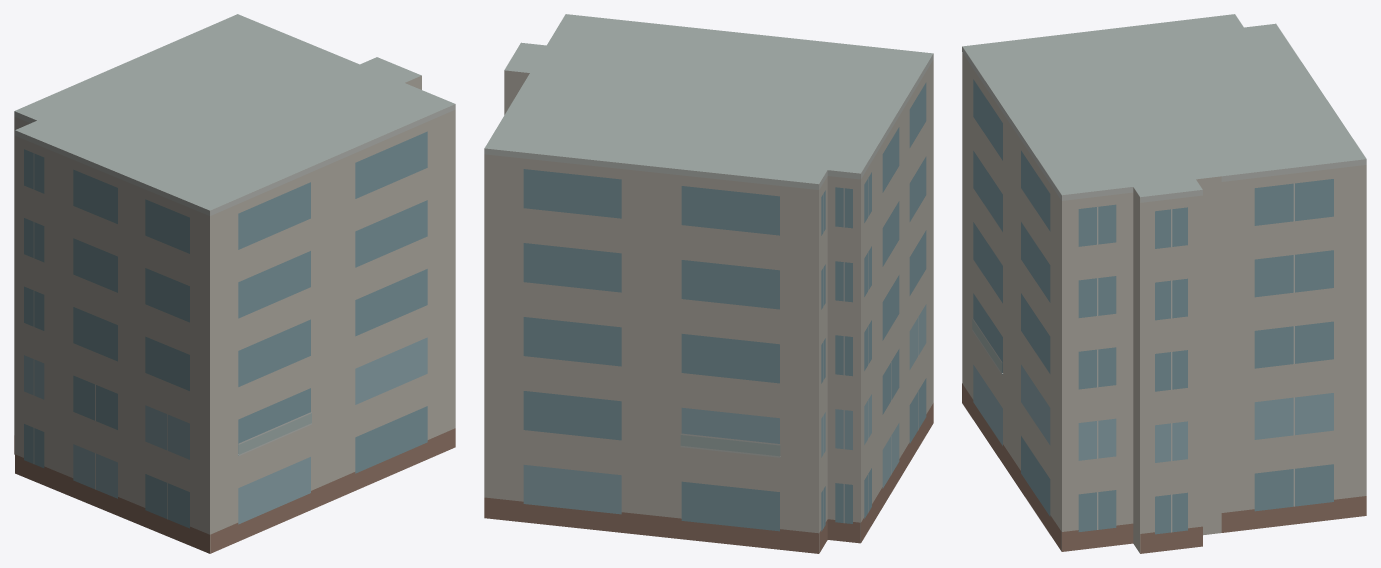
File: survey-upis-32865923.glb
3 renders of one model, left to right at view 1: azimuth 30°, elevation 25°; view 2: azimuth 150°, elevation 25°; view 3: azimuth 270°, elevation 25°, orthographic. The views are drawn at different scales.
Parts seen in each view (by area): view 1: survey-upis-32865923.tmp; view 2: survey-upis-32865923.tmp; view 3: survey-upis-32865923.tmp.
Part boxes in pixels (box(x1,y1,x2,y2)): survey-upis-32865923.tmp: box(14, 14, 455, 553); survey-upis-32865923.tmp: box(484, 14, 933, 553); survey-upis-32865923.tmp: box(962, 14, 1366, 553).
Size of the model in its own units: 16.81 by 15.25 by 15.69.
